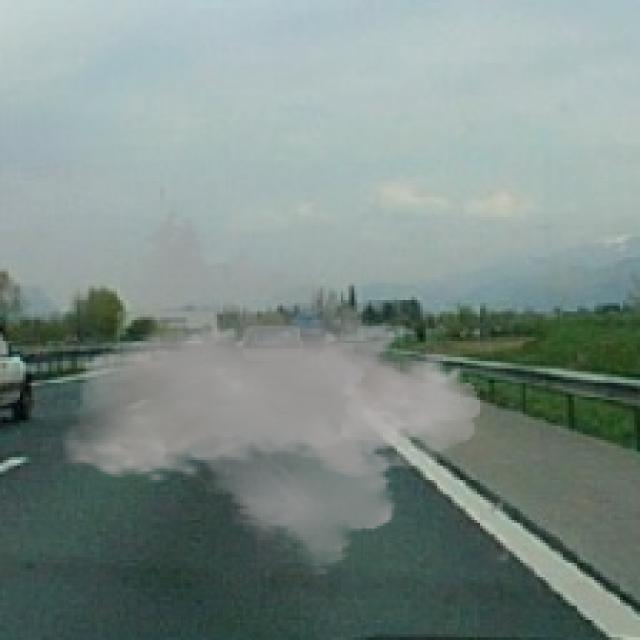smoke: (60, 209, 483, 577)
